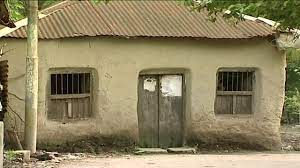Mud House: (3, 5, 291, 151)
